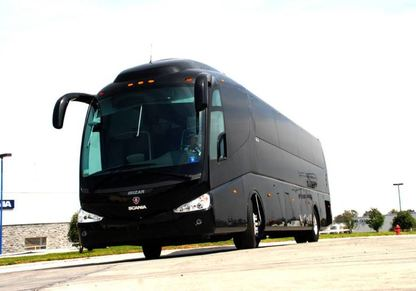bus: (52, 45, 331, 261)
